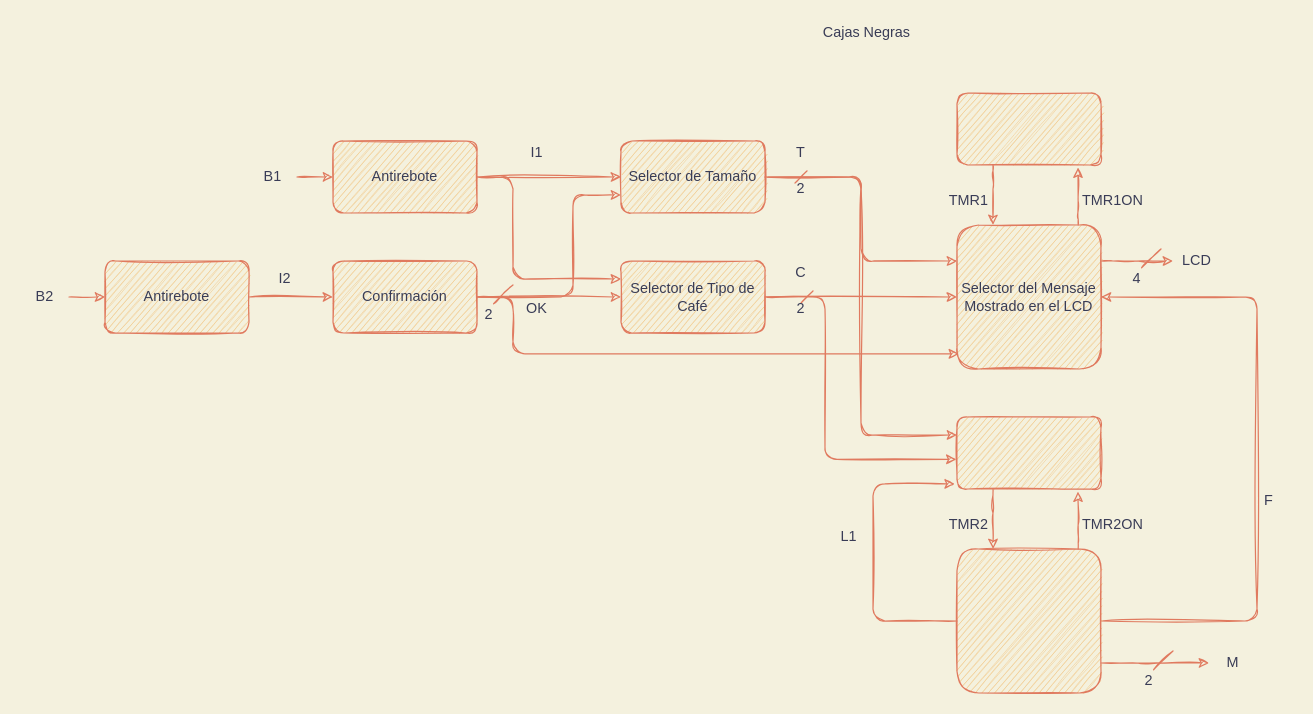
Image size: 1313x714. Some labels were removed from this diagram. Here are the shapes that lost their labels. From the top down, the box of each, then its label:
(956, 92, 1101, 165): Timer 1
(956, 416, 1101, 489): Timer 2
(956, 548, 1101, 693): Preparación del Café
